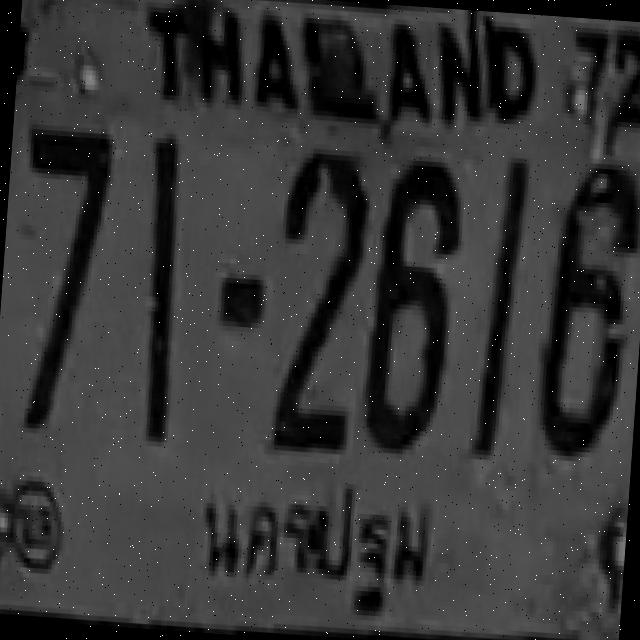1: (473, 156, 528, 456), (133, 132, 185, 432)
2: (266, 144, 368, 447)
6: (531, 155, 640, 454), (358, 153, 464, 452)
7: (8, 121, 110, 429), (14, 118, 110, 346)
NakhonPathom: (172, 471, 446, 634)
